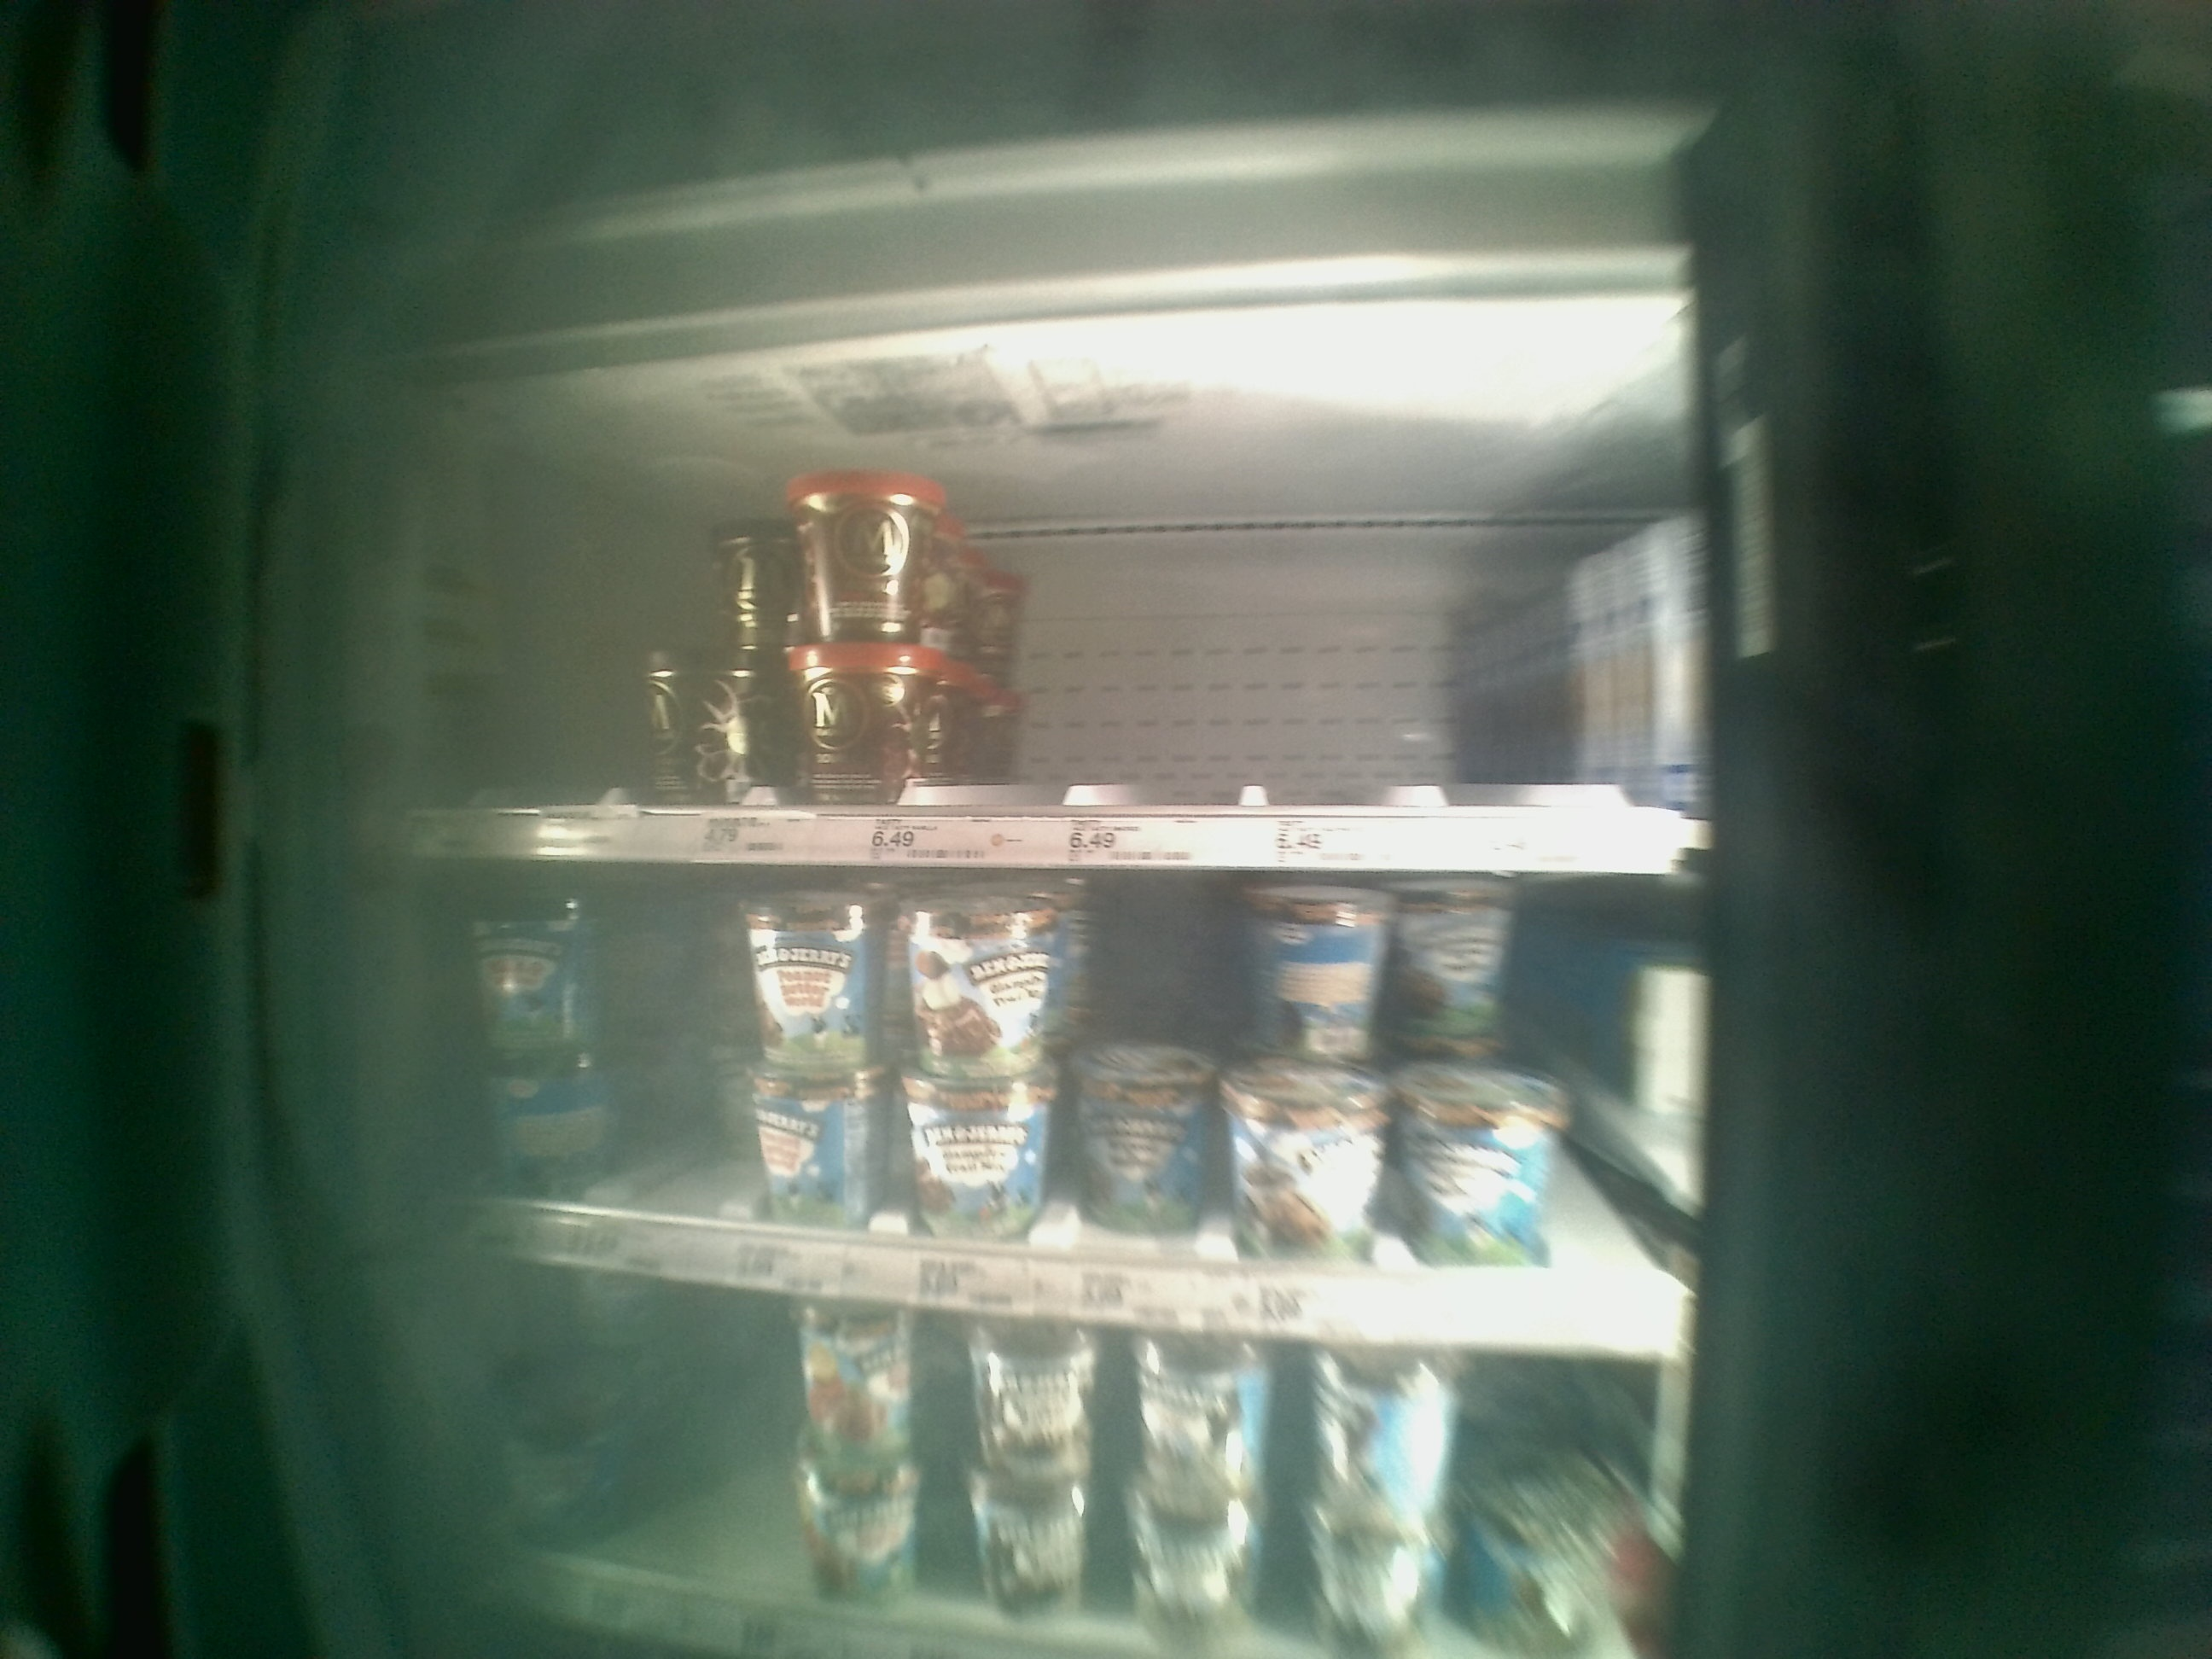ice-cream-shelf: (401, 852, 1702, 1351), (409, 396, 1700, 857)
